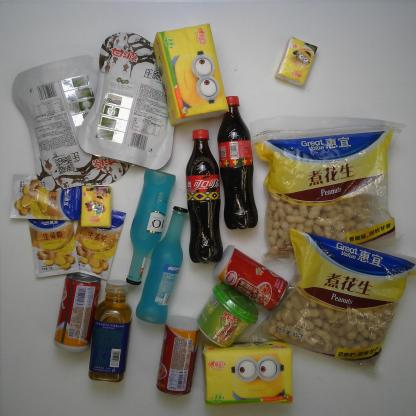Alcohol: (136, 202, 190, 324), (124, 167, 176, 286)
Canned Food: (211, 244, 290, 312), (53, 271, 101, 353), (154, 313, 200, 398)
Dried Food: (248, 115, 408, 276), (248, 228, 416, 376)
Dried Fruit: (11, 53, 139, 194), (76, 29, 182, 171)
Drink: (214, 93, 259, 230), (182, 124, 224, 264), (87, 277, 133, 384)
Instant Drink: (194, 279, 260, 350)
Seasoner: (68, 202, 126, 283), (25, 200, 81, 278), (9, 170, 84, 223)
Tissue: (154, 22, 232, 126), (200, 339, 297, 407), (275, 35, 320, 88), (79, 182, 112, 229)
